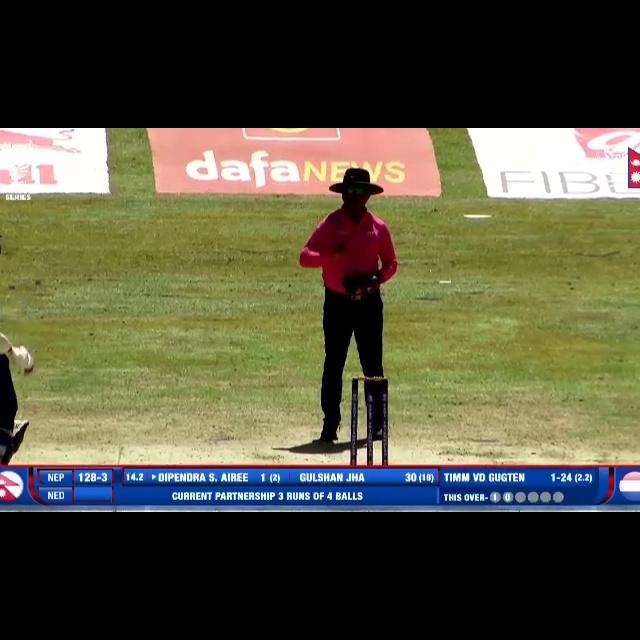umpire: (286, 156, 425, 459)
